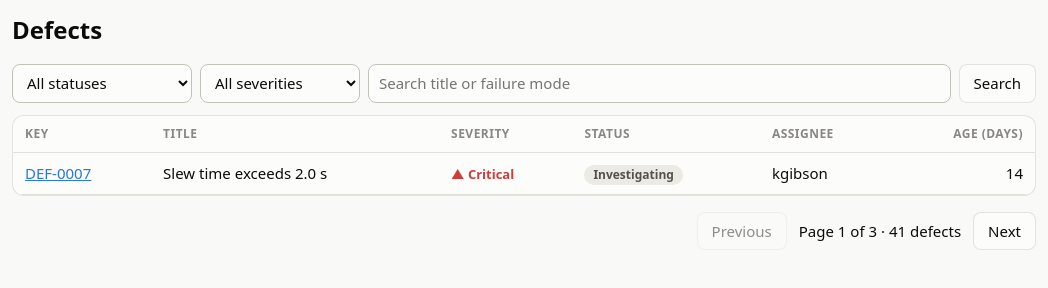
Defects page › lists defects and puts filters in the URL
This screenshot has width=1048, height=288.
Expected: the text "Page 1 of 3 · 41 defects" is shown, [799, 220, 961, 242]
Select "Investigating" in the dropdown named "Status" at (102, 83), box [12, 64, 192, 102]
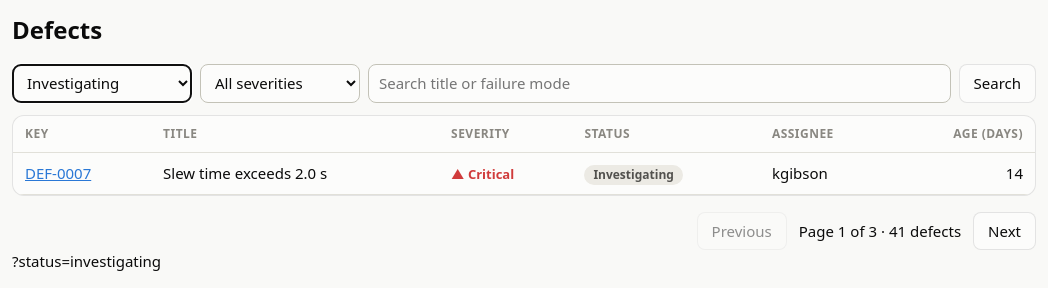
Expected: the text with test id "location" reads "?status=investigating", [12, 251, 161, 271]
Click the button "Next" at (1005, 231), box [973, 212, 1036, 250]
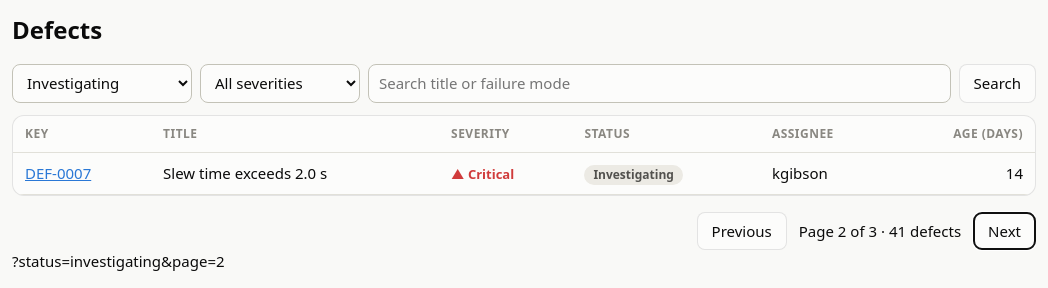
Expected: the text with test id "location" shows "page=2", [12, 251, 225, 271]
